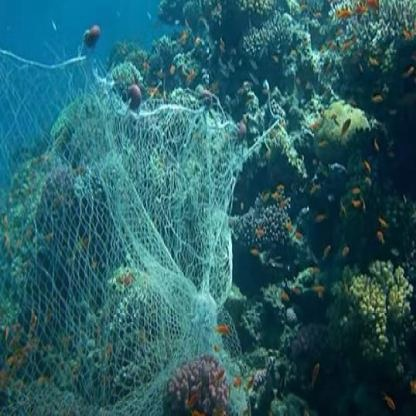net: (3, 85, 236, 416)
